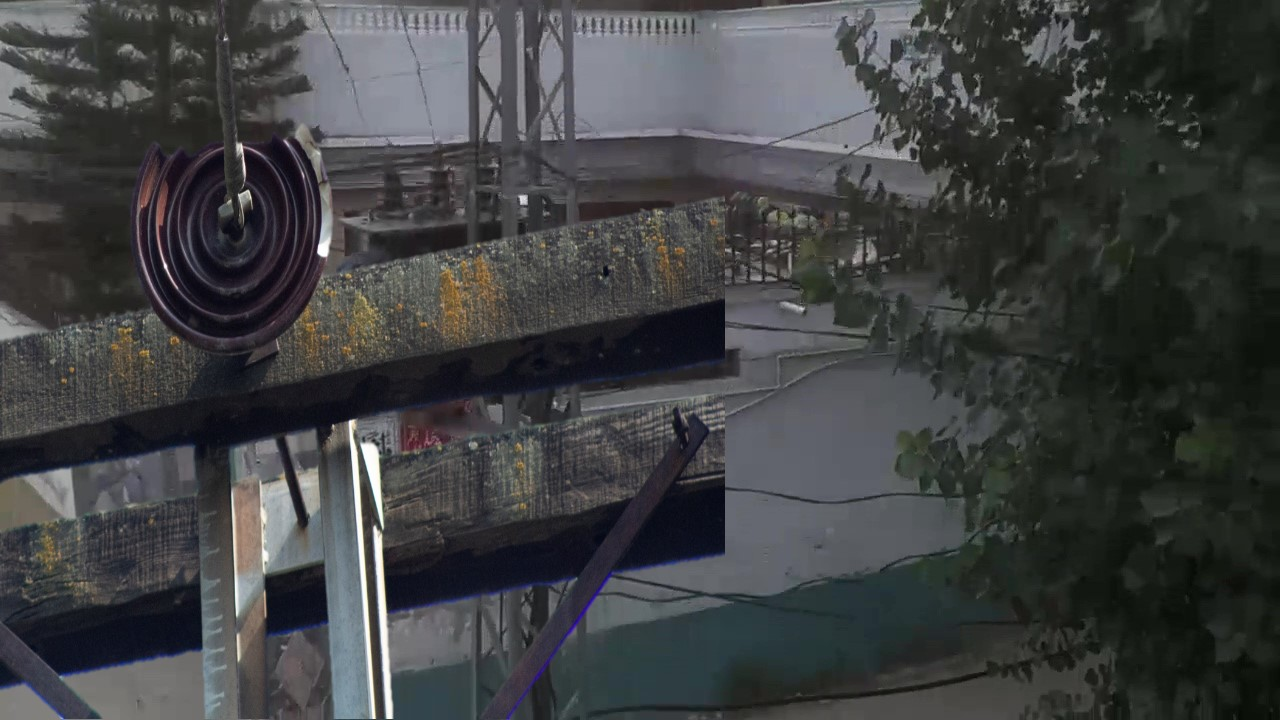defect_disc: (129, 113, 344, 356)
